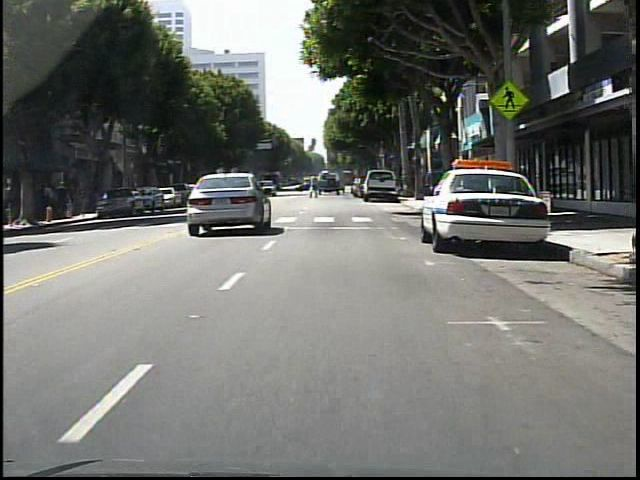person: (424, 165, 440, 205), (58, 180, 72, 219), (45, 184, 57, 219), (310, 175, 323, 201)
